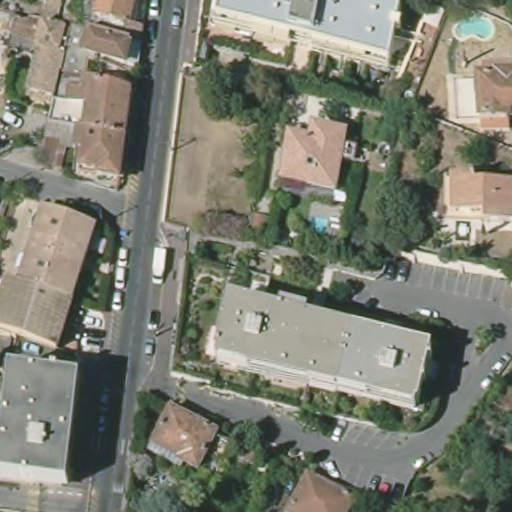pool: (452, 14, 495, 44), (311, 213, 336, 240)
